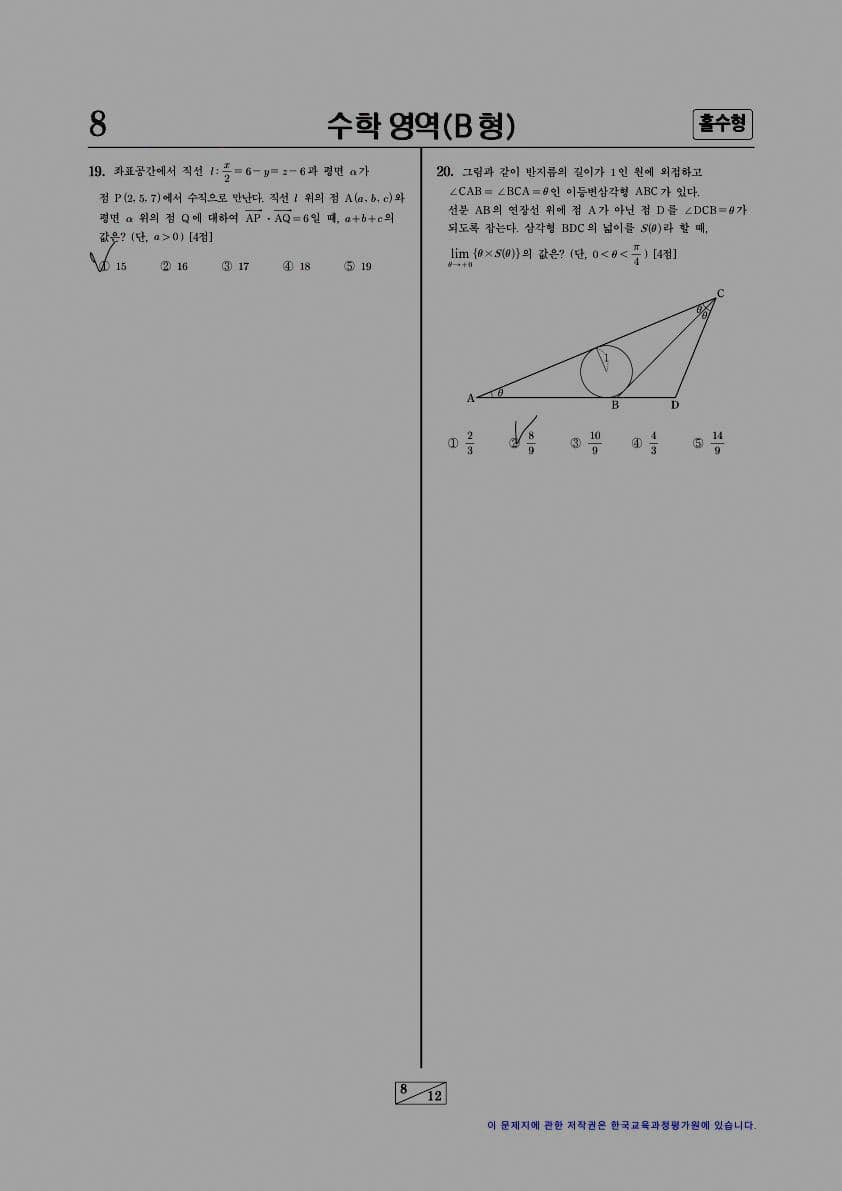question: (421, 151, 758, 477), (74, 152, 416, 287)
